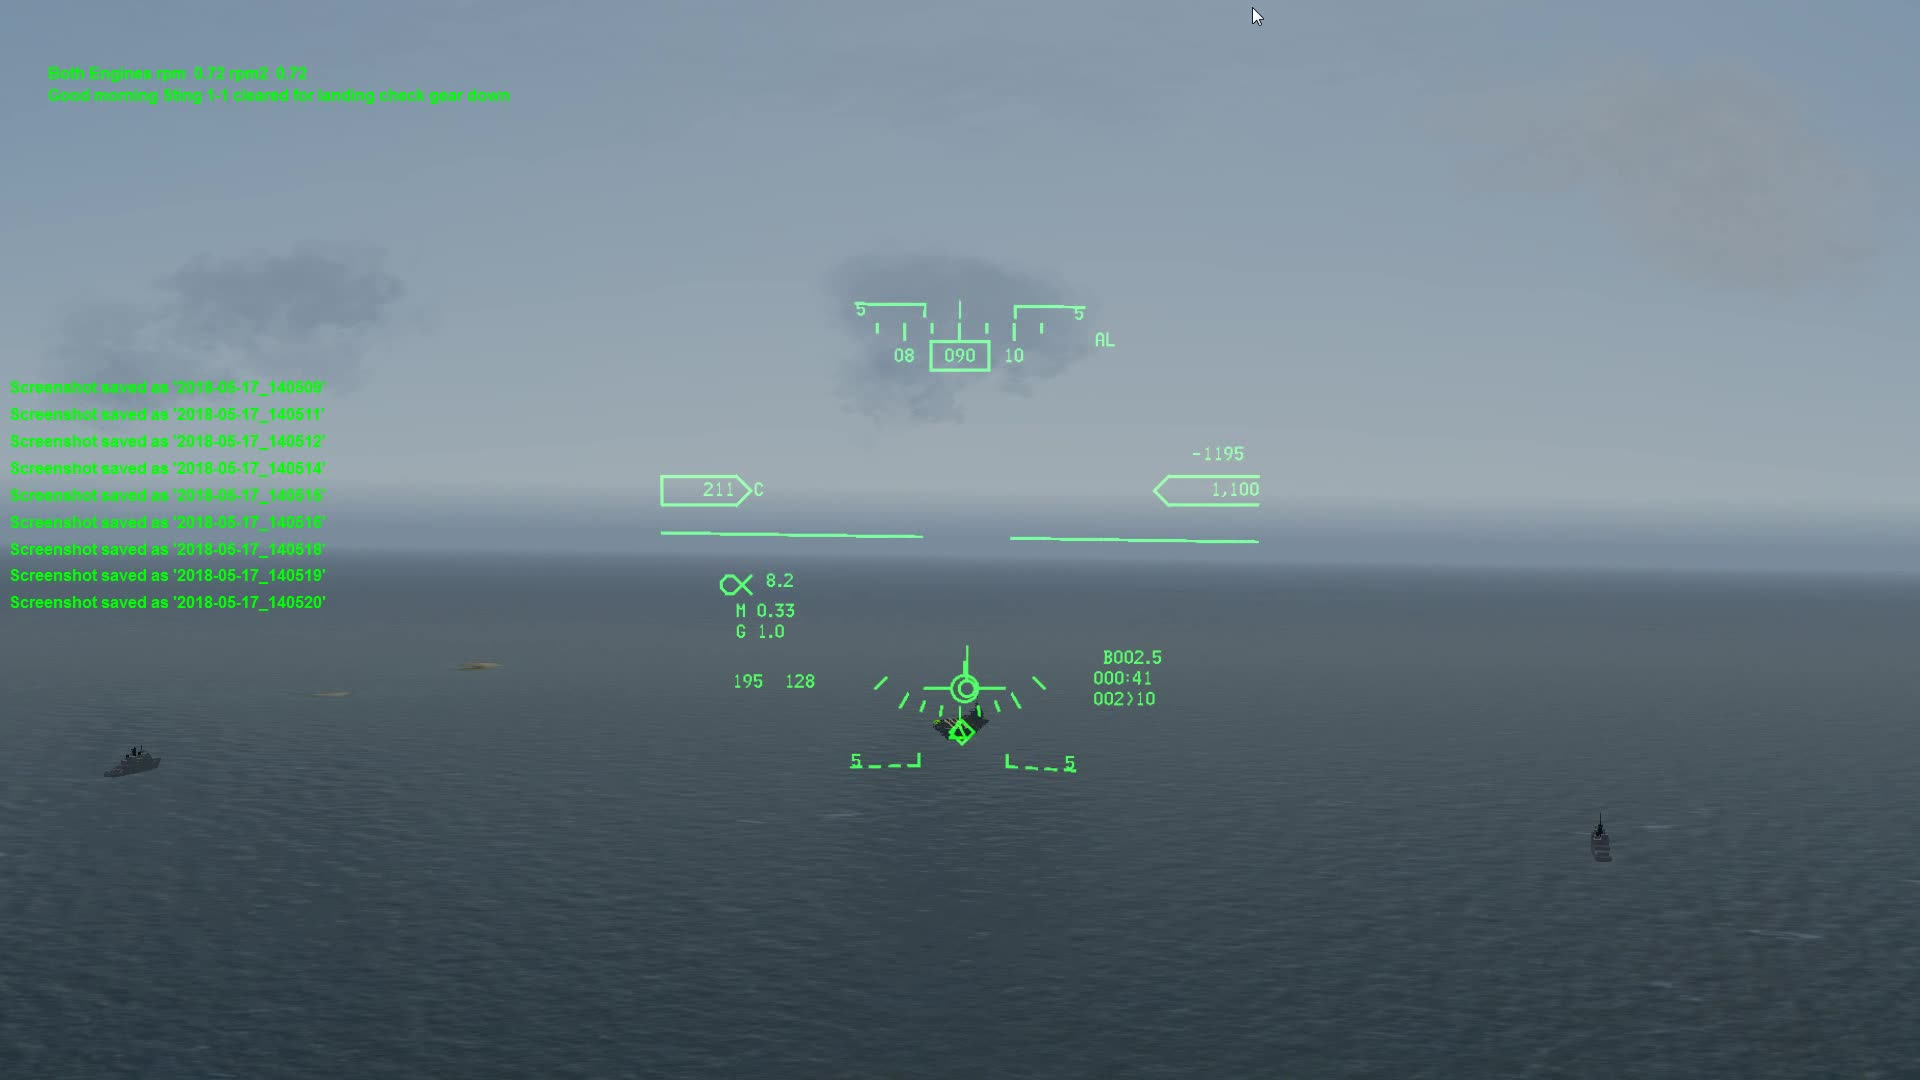speed vector: (920, 634, 1015, 708)
